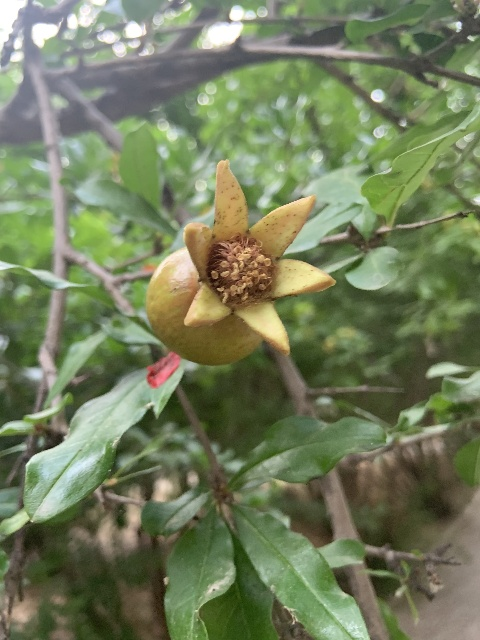early-fruit: (145, 157, 336, 365)
